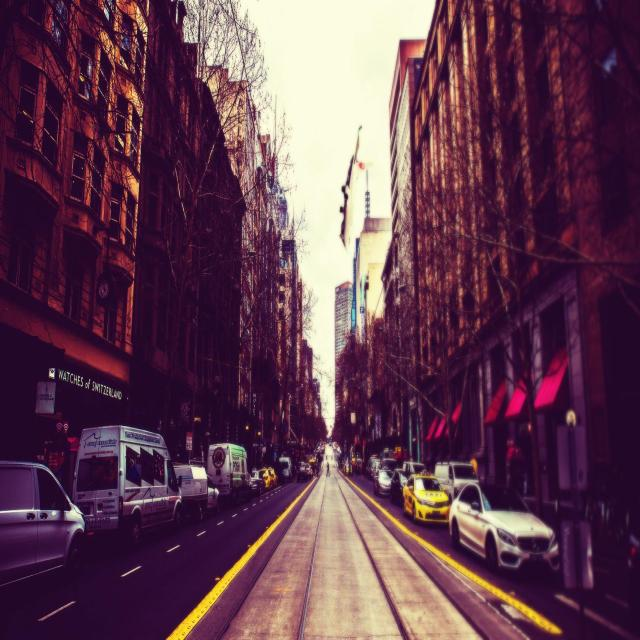airplane: (339, 123, 370, 259)
